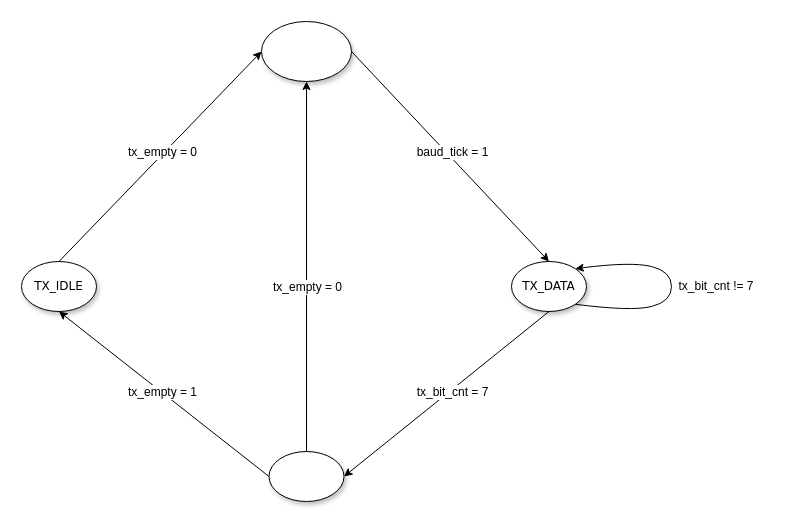
This 789x526 diagram has some shape labels left out. Each missing label, with the centre of its shape:
TX_DONE: point (307, 477)
TX_START: point (307, 52)
